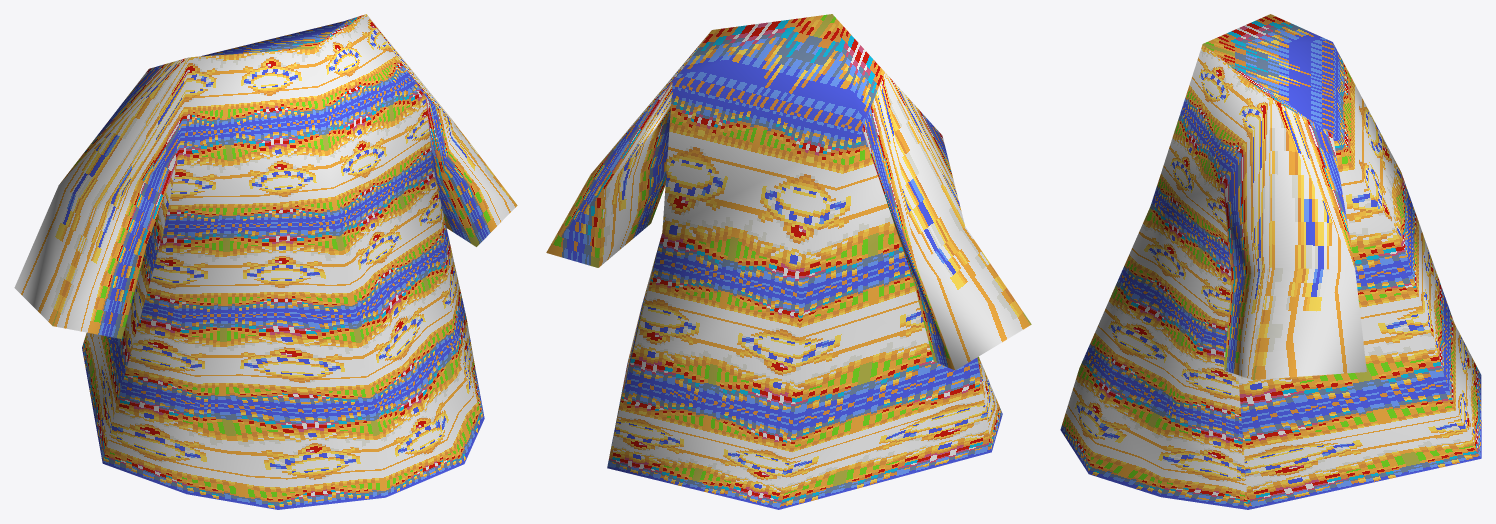
File: 2585dress000_r.gltf
3 renders of one model, left to right at view 1: azimuth 30°, elevation 25°; view 2: azimuth 150°, elevation 25°; view 3: azimuth 270°, elevation 25°, orthographic. The views are drawn at different scales.
Parts seen in each view (by area): view 1: 2585dress000_r; view 2: 2585dress000_r; view 3: 2585dress000_r.
Part boxes in pixels (<box>): 2585dress000_r: <box>14,14,517,509</box>; 2585dress000_r: <box>546,14,1031,509</box>; 2585dress000_r: <box>1060,14,1481,509</box>.
Bounding box in the file's own units: 1.09 × 0.8945 × 0.8848.
Materials: 1 (1 with a texture image).
